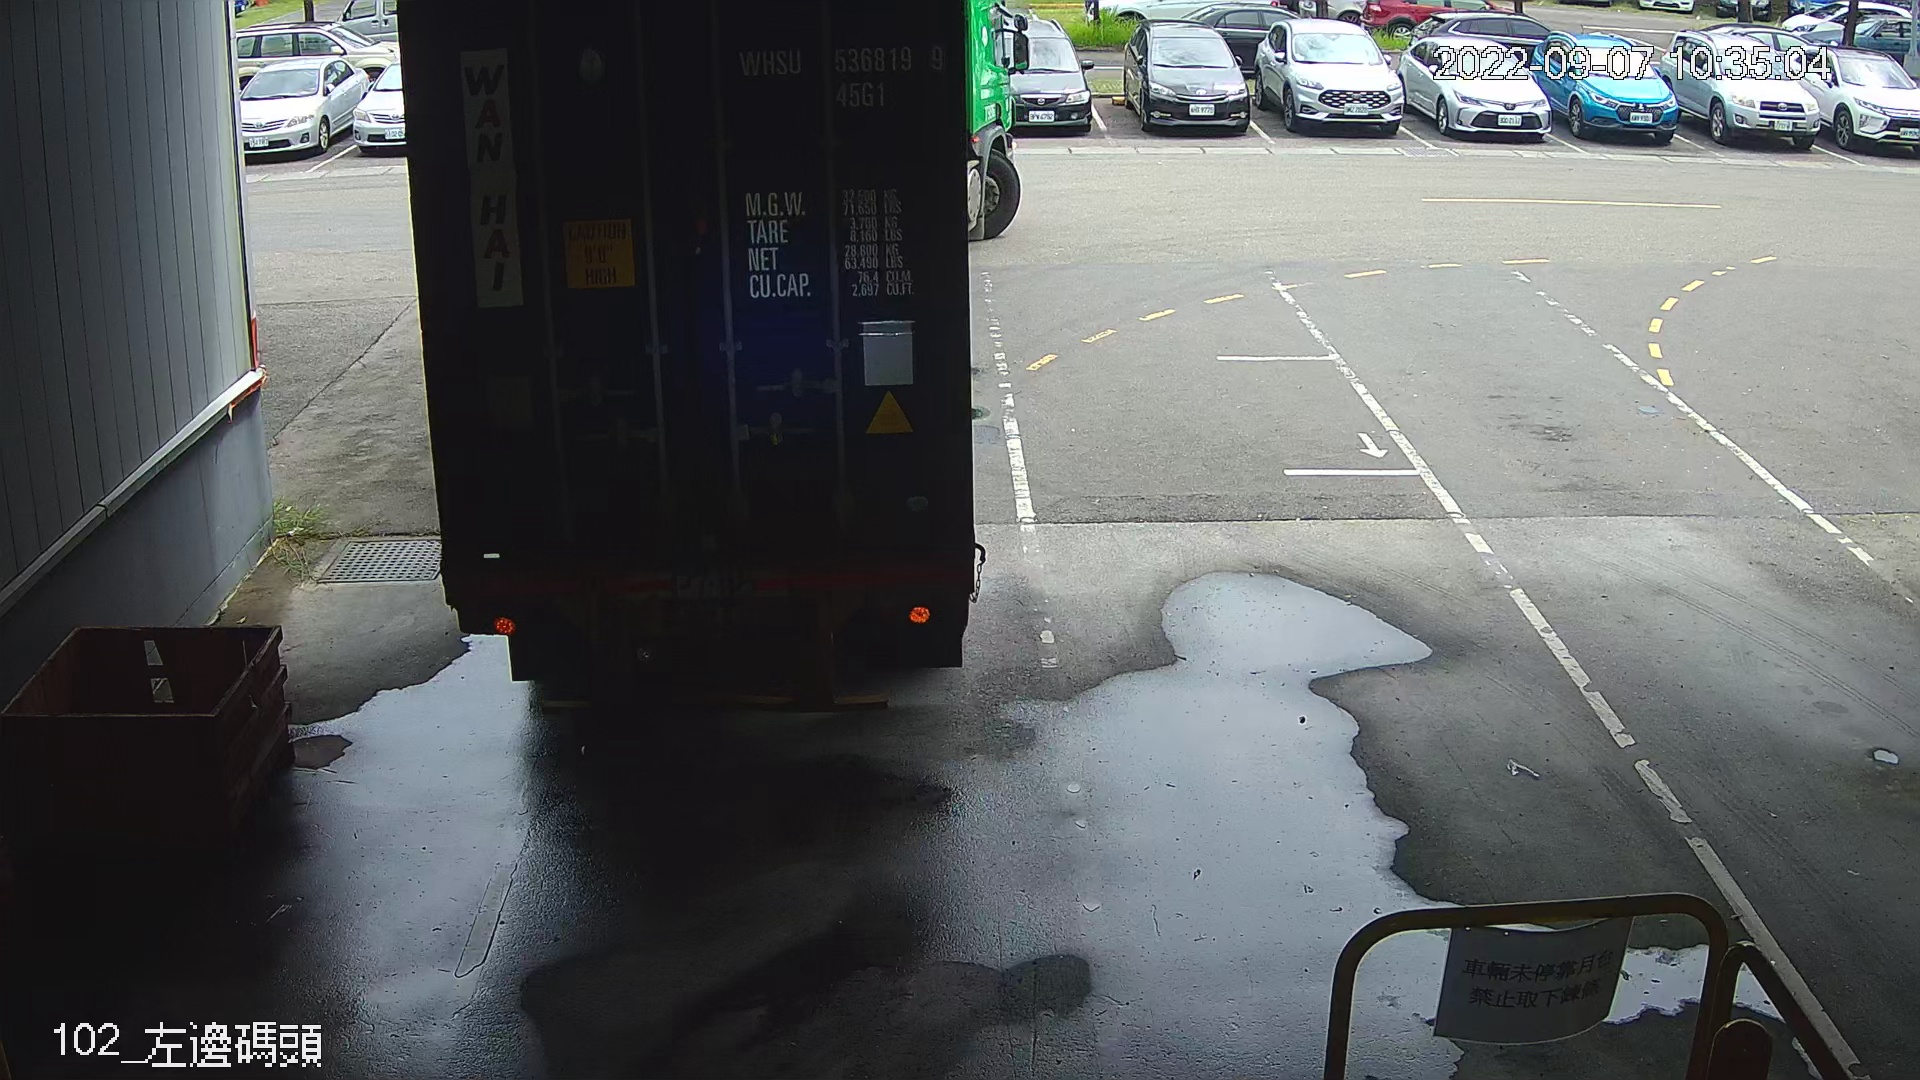container: (731, 33, 953, 120)
